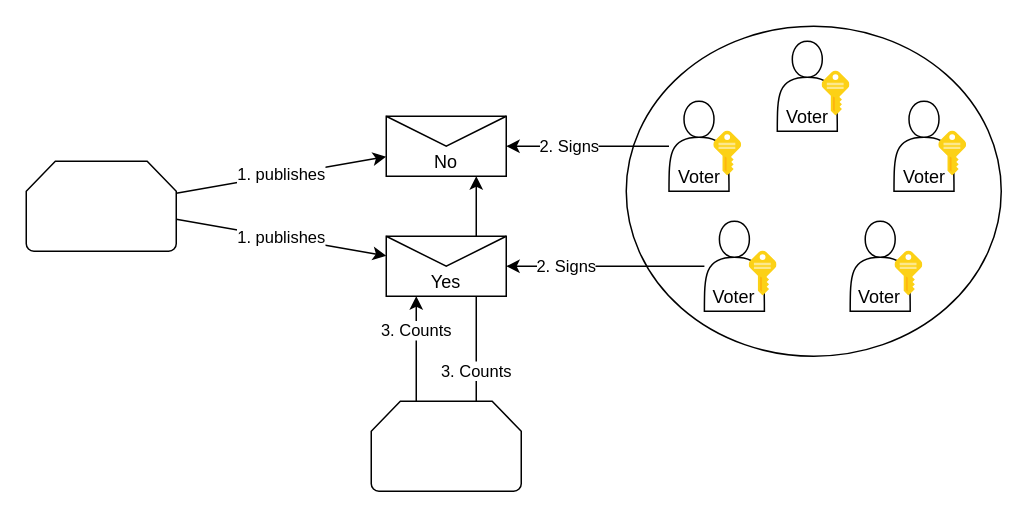
Some shapes in this 1028 by 518 pixel diagram are drawn without their labels. Here are the shapes that lost their labels. From the top down, the box of each, then its label:
(25, 160, 176, 251): Government
(625, 25, 1001, 356): Voters group
(370, 400, 521, 491): Voting office
